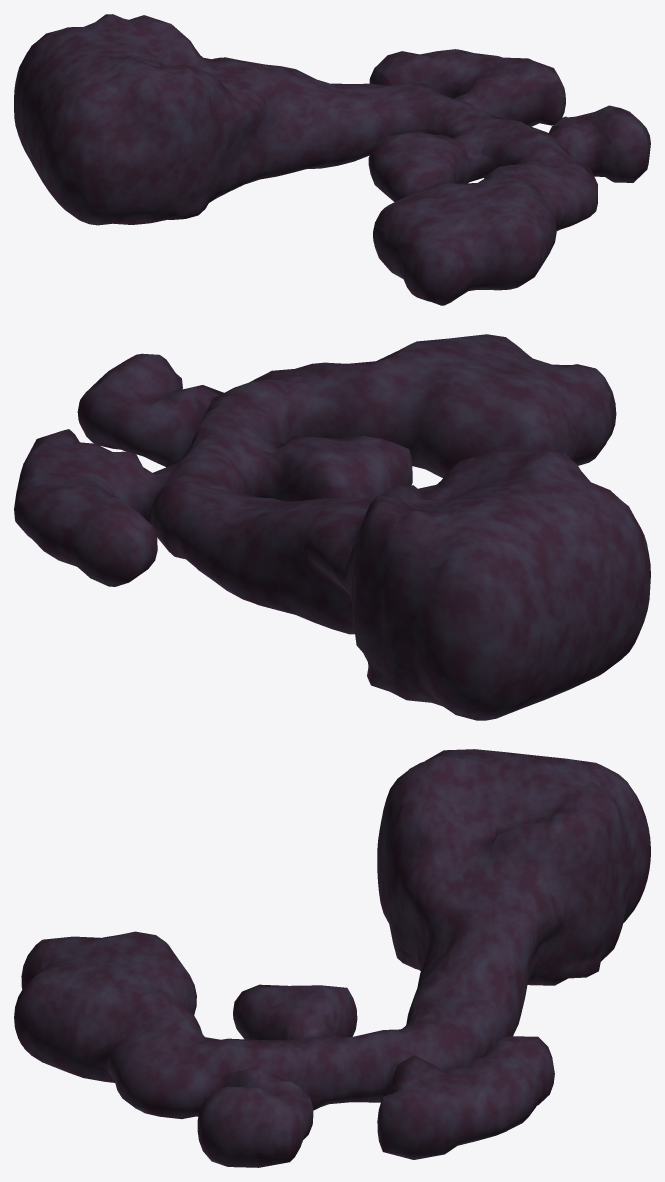
The model's file is FinalCave3.fbx.
The picture shows the model from 3 angles, top to bottom: view 1: azimuth 30°, elevation 25°; view 2: azimuth 150°, elevation 25°; view 3: azimuth 270°, elevation 25°; orthographic projection. The views are drawn at different scales.
Parts seen in each view (by area): view 1: Cave3Mesh; view 2: Cave3Mesh; view 3: Cave3Mesh.
Part boxes in pixels (box(x1,y1,x2,y2)): Cave3Mesh: box(14, 14, 650, 305); Cave3Mesh: box(14, 334, 650, 720); Cave3Mesh: box(14, 749, 650, 1167).
Bounding box in the file's own units: 9009 × 2703 × 8305.
